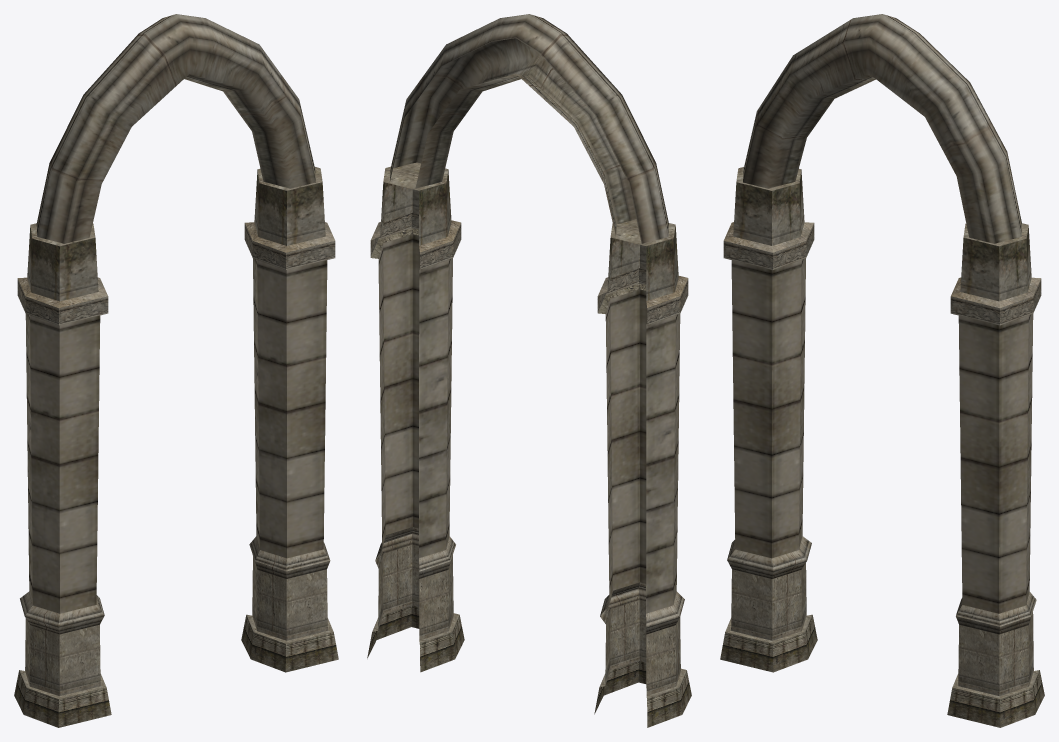
The model's file is SM_EN_2005_zhizi03.FBX.
The picture shows the model from 3 angles, left to right: view 1: azimuth 30°, elevation 25°; view 2: azimuth 150°, elevation 25°; view 3: azimuth 330°, elevation 25°; orthographic projection.
Visible parts, largest first — view 1: SM_EN_2005_zhizi03; view 2: SM_EN_2005_zhizi03; view 3: SM_EN_2005_zhizi03.
Boxes of the visible parts, x1,y1,x2,y2 form: SM_EN_2005_zhizi03: (14,14,338,727); SM_EN_2005_zhizi03: (367,14,691,727); SM_EN_2005_zhizi03: (720,14,1044,727).
Bounding box in the file's own units: 110 × 229 × 27.76.
